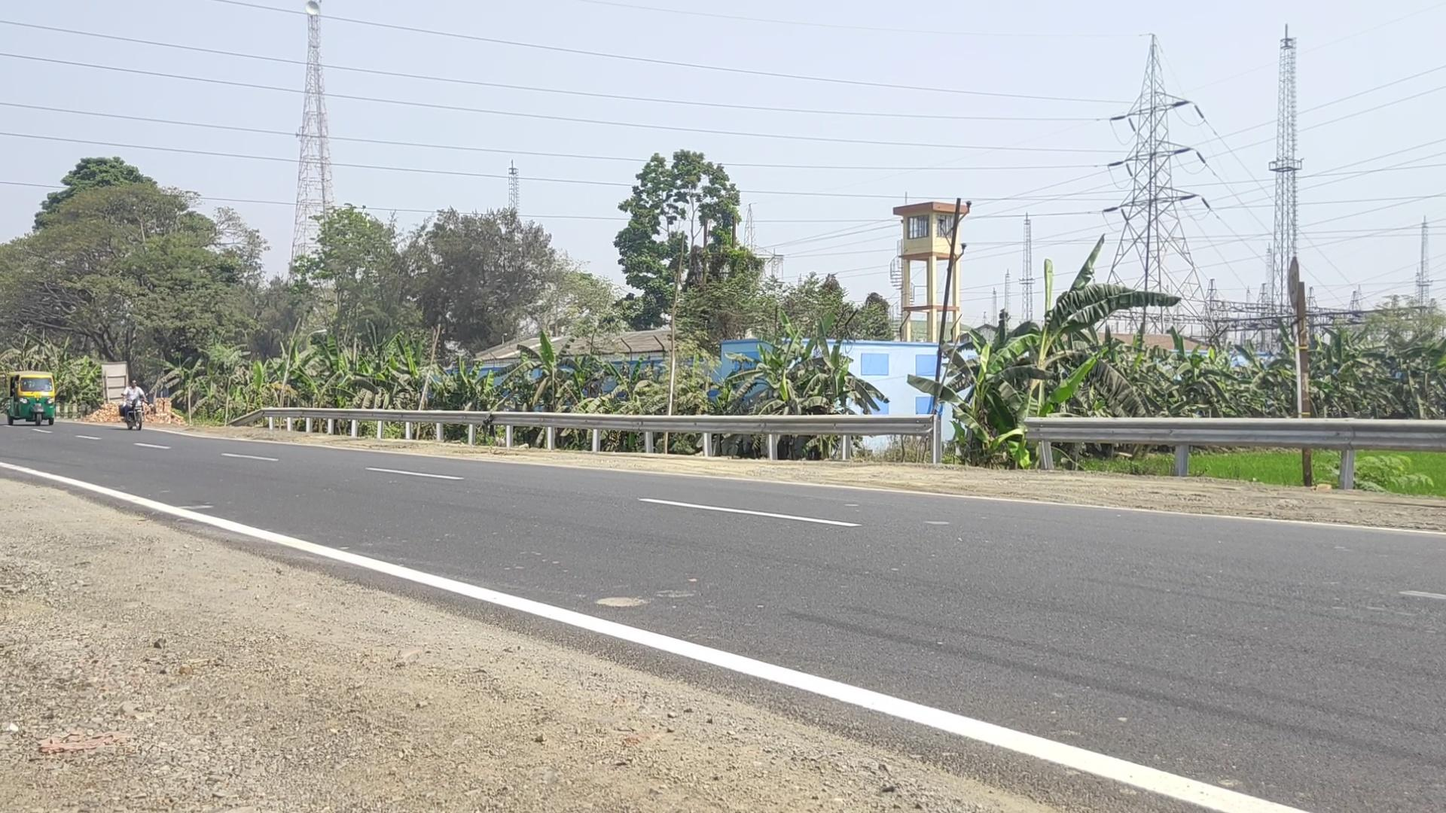Auto: (6, 370, 56, 428)
bike: (118, 378, 147, 431)
